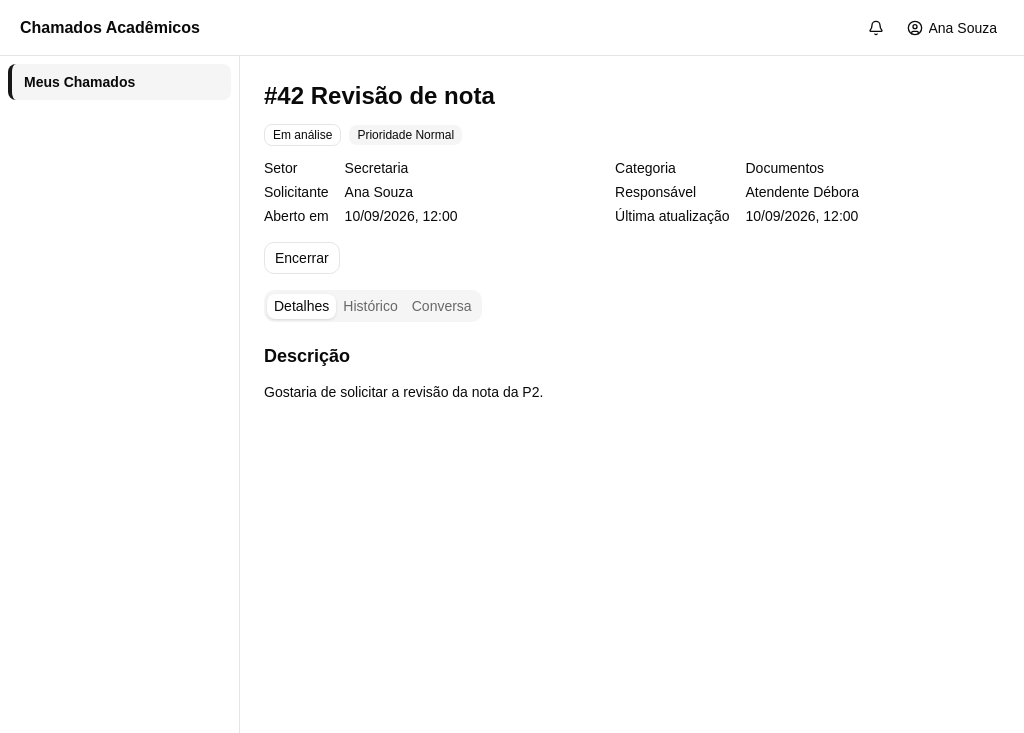
ConversationTab (Tela 5, US1.4, BR5.1) › reloads the conversation on "Atualizar" and announces what arrived (BR5.5)
Click the tab with test id "ticket-tabs-conversation-tab": click(442, 306) [405,294,479,318]
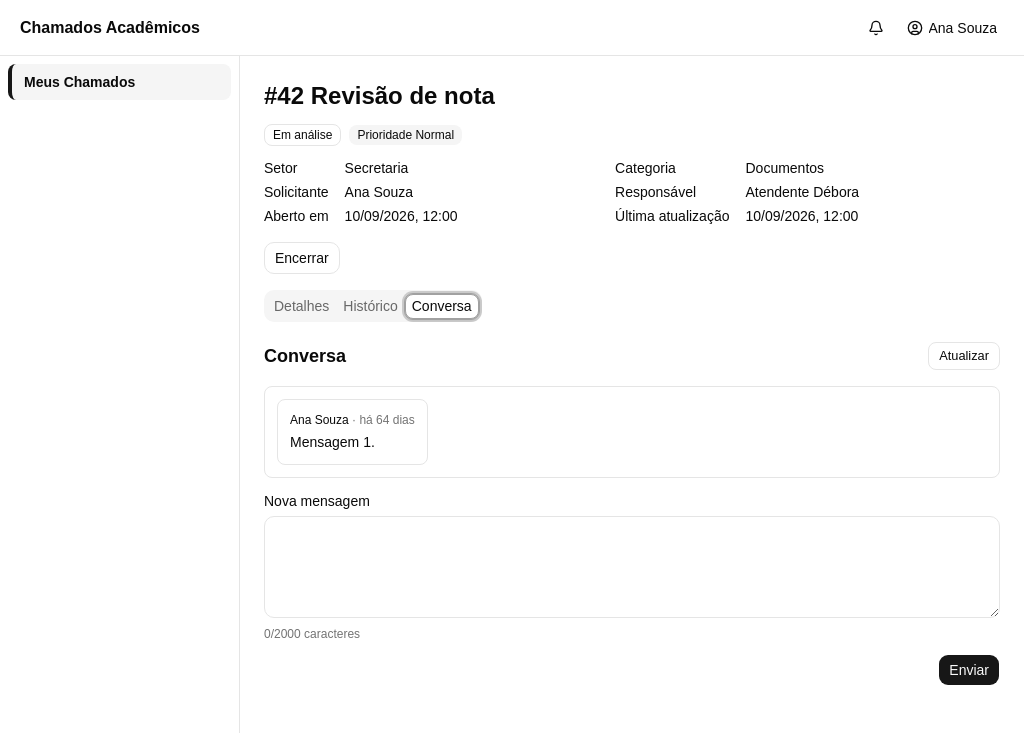
Expected: the list with test id "conversation-message-list" is shown, [277,399,428,465]
Click the button with test id "conversation-refresh-button": click(964, 356) [928,342,1000,370]
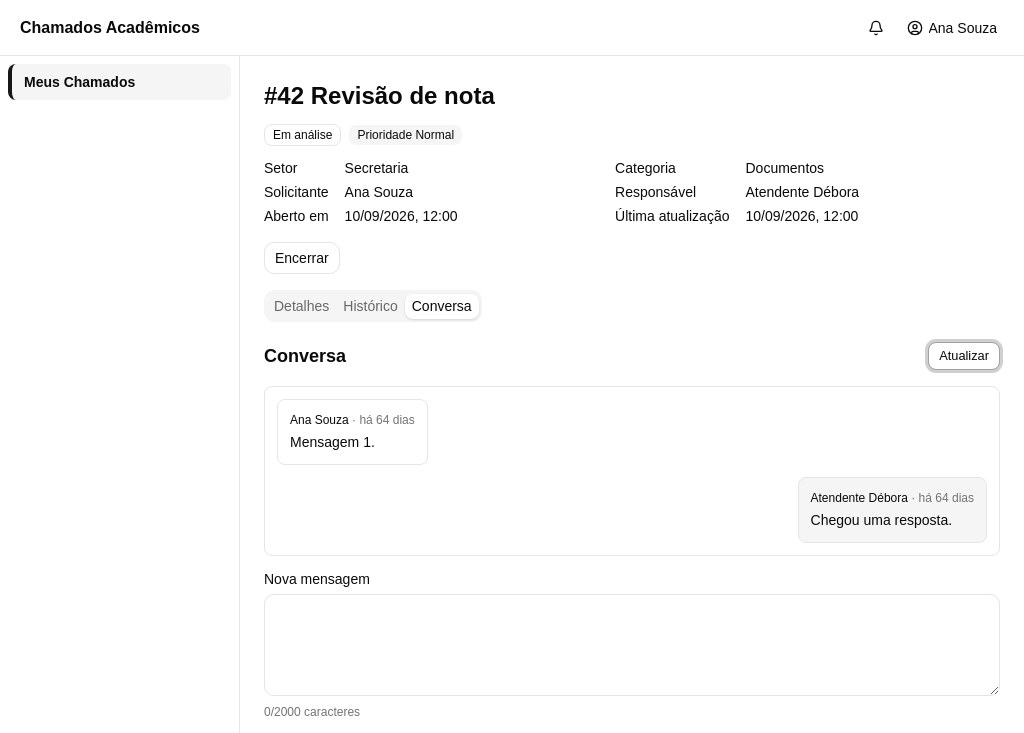
Expected: the text "Chegou uma resposta." is shown, [810,510,974,530]
